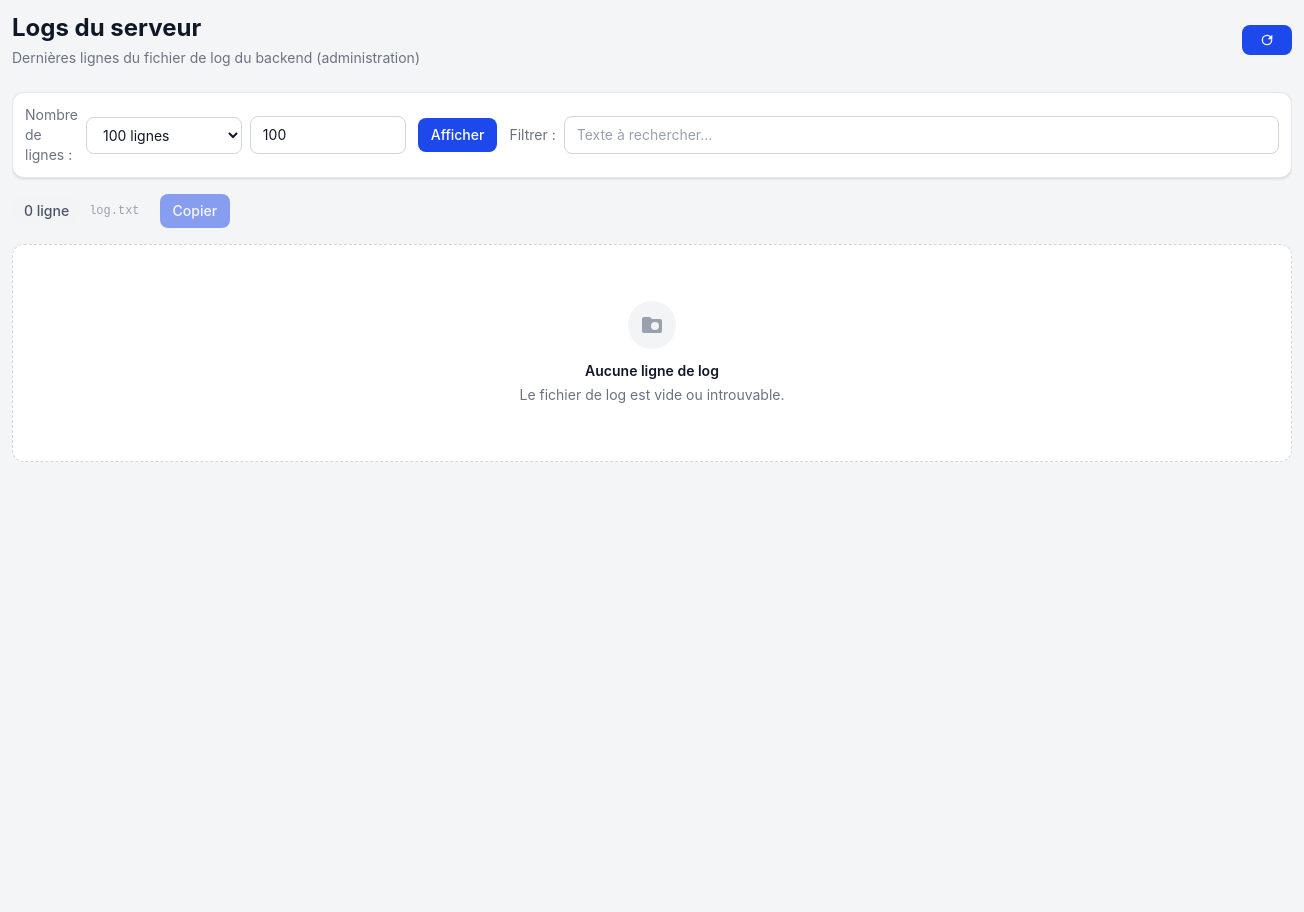
Test case: Logs › change le nombre de lignes et rafraîchit
The image size is (1304, 912).
Check: the text "Aucune ligne de log" is shown, box [585,361,719,381]
Select "500 lignes" in the dropdown named "Nombre de lignes": (164, 135) [86,116,242,154]
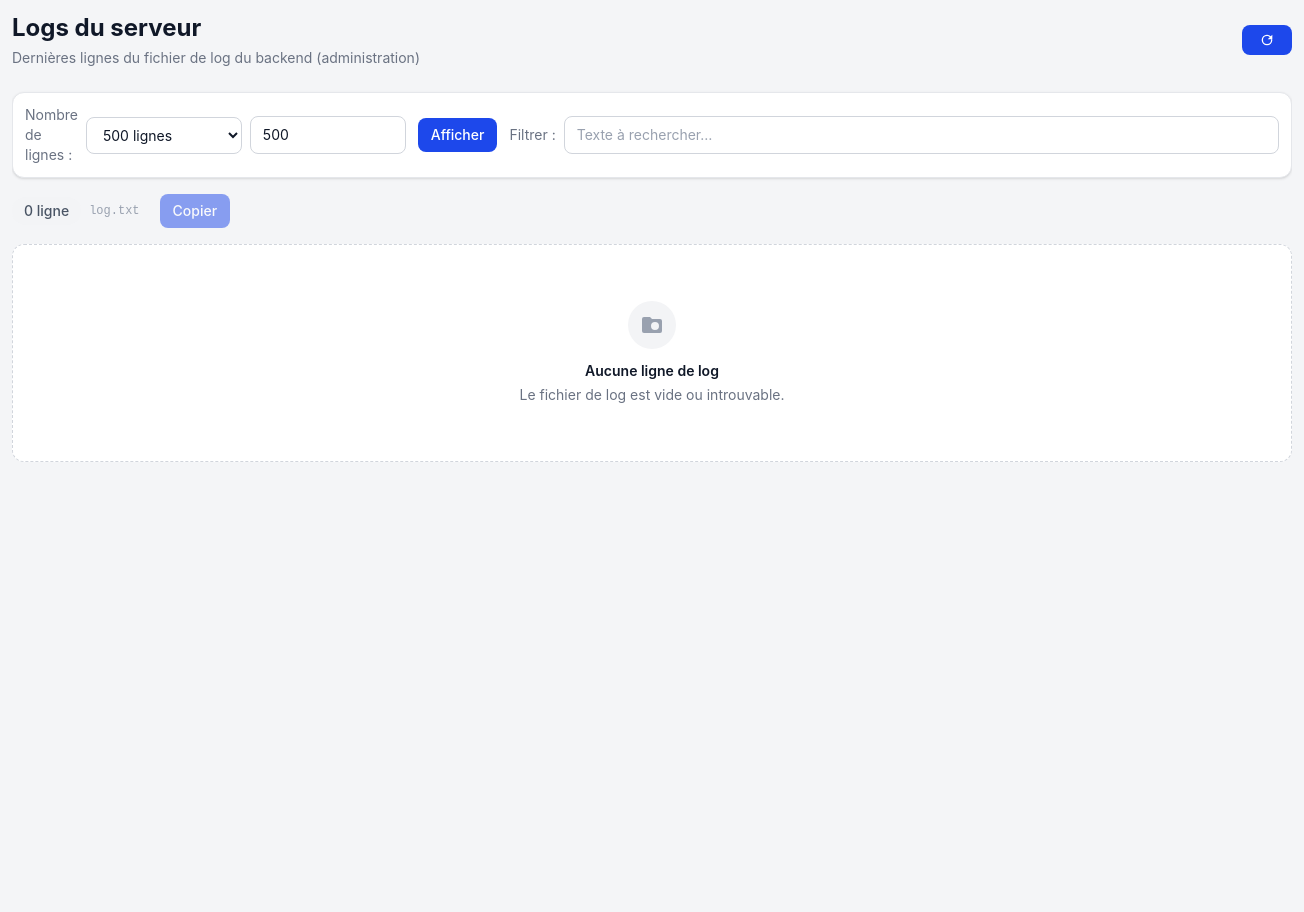
Click the button "Afficher": click(458, 135) [418,118,498,152]
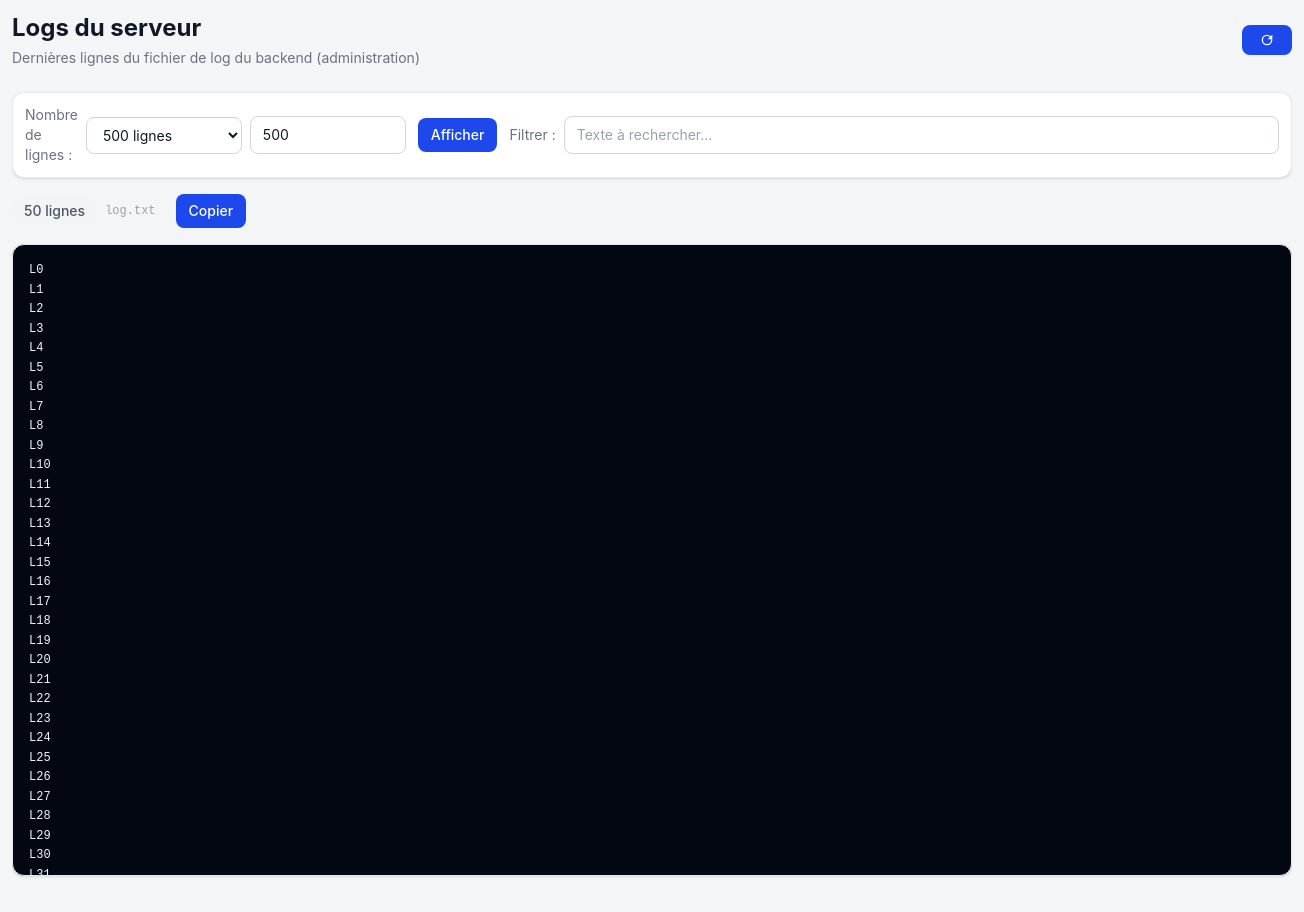
Check: the text "L0" is shown, box [29,263,51,876]
